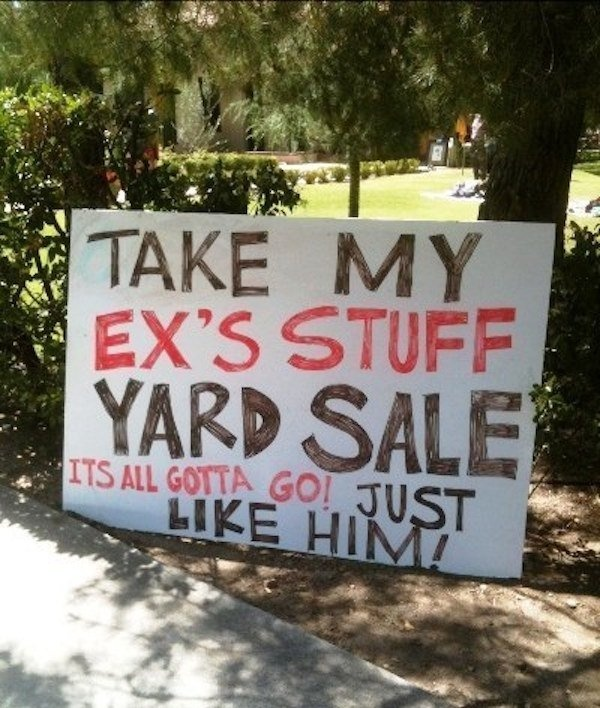text: (321, 382, 336, 481), (337, 382, 352, 481), (353, 382, 368, 481), (369, 382, 384, 481), (385, 382, 400, 481), (401, 382, 416, 481), (417, 382, 432, 481), (433, 382, 448, 481), (449, 382, 464, 481), (465, 382, 480, 481), (481, 382, 496, 481), (497, 382, 512, 481), (97, 376, 112, 464), (113, 376, 128, 464), (129, 376, 144, 464), (145, 376, 160, 464), (161, 376, 176, 464), (177, 376, 192, 464), (193, 376, 208, 464), (209, 376, 224, 464), (225, 376, 240, 464), (241, 376, 256, 464), (257, 376, 272, 464), (308, 382, 320, 481), (513, 382, 525, 481), (337, 228, 352, 305), (353, 228, 368, 305), (369, 228, 384, 305), (385, 228, 400, 305), (401, 228, 416, 305), (417, 228, 432, 305), (433, 228, 448, 305), (449, 228, 464, 305), (465, 228, 480, 305), (273, 376, 286, 464), (97, 228, 112, 299), (113, 228, 128, 299), (129, 228, 144, 299), (145, 228, 160, 299), (161, 228, 176, 299), (177, 228, 192, 299), (193, 228, 208, 299), (209, 228, 224, 299), (225, 228, 240, 299), (241, 228, 256, 299), (289, 305, 304, 376), (305, 305, 320, 376), (321, 305, 336, 376), (337, 305, 352, 376), (353, 305, 368, 376), (369, 305, 384, 376), (385, 305, 400, 376), (401, 305, 416, 376), (417, 305, 432, 376), (433, 305, 448, 376), (449, 305, 464, 376), (465, 305, 480, 376), (481, 305, 496, 376), (497, 305, 512, 376), (97, 305, 112, 372), (113, 305, 128, 372), (129, 305, 144, 372), (145, 305, 160, 372), (161, 305, 176, 372), (177, 305, 192, 372), (193, 305, 208, 372), (209, 305, 224, 372), (225, 305, 240, 372), (241, 305, 256, 372), (321, 507, 336, 574), (337, 507, 352, 574), (353, 507, 368, 574), (369, 507, 384, 574), (385, 507, 400, 574), (401, 507, 416, 574), (417, 507, 432, 574), (433, 507, 448, 574), (257, 228, 271, 299), (369, 480, 384, 536), (385, 480, 400, 536), (401, 480, 416, 536), (417, 480, 432, 536), (433, 480, 448, 536), (449, 480, 464, 536), (308, 507, 320, 574), (177, 494, 192, 547), (193, 494, 208, 547), (209, 494, 224, 547), (225, 494, 240, 547), (241, 494, 256, 547), (257, 494, 272, 547), (465, 480, 479, 536), (86, 228, 96, 299), (273, 467, 288, 508), (289, 467, 304, 508), (305, 467, 320, 508), (321, 467, 336, 508), (280, 305, 288, 376), (358, 480, 368, 536), (81, 458, 96, 491), (97, 458, 112, 491), (167, 494, 176, 547), (481, 228, 487, 305), (129, 464, 144, 494), (177, 464, 192, 494), (193, 464, 208, 494), (209, 464, 224, 494), (225, 464, 240, 494), (513, 305, 519, 376), (241, 464, 255, 494), (145, 464, 158, 494), (273, 494, 280, 547), (92, 376, 96, 464), (449, 507, 454, 574), (70, 458, 80, 491), (166, 464, 176, 494), (257, 305, 261, 372), (123, 464, 128, 494), (113, 458, 117, 491), (95, 305, 96, 372), (271, 467, 272, 508)
